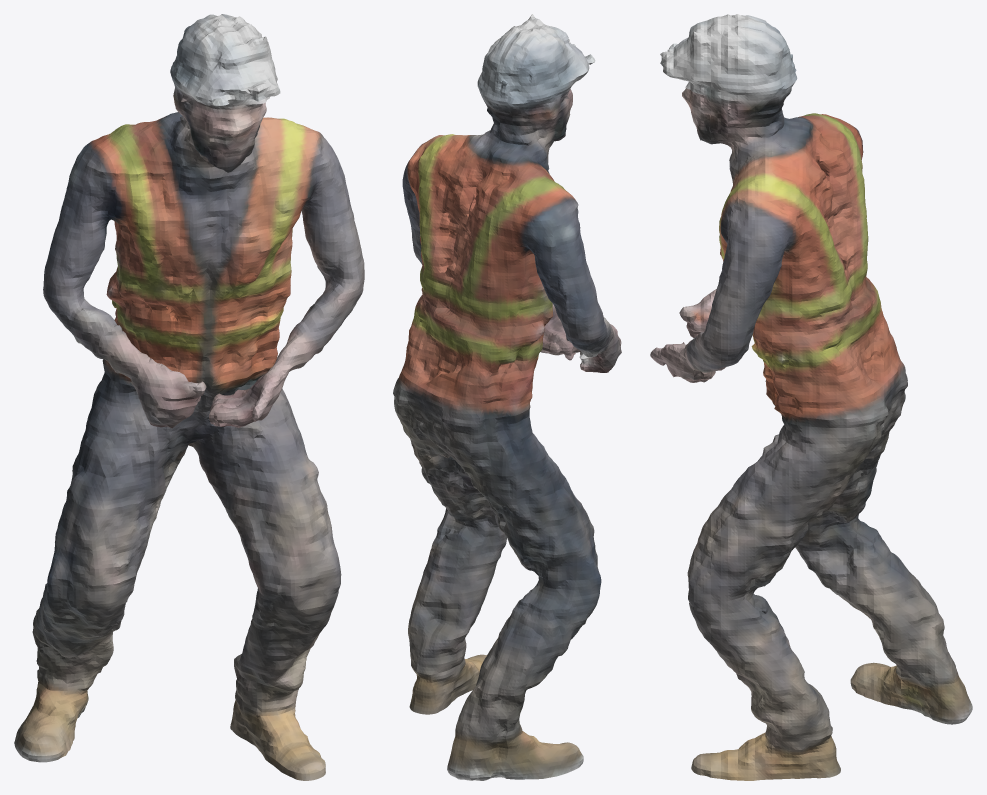
File: standup_14.glb
3 views of the same model, side by side, from view 1: azimuth 30°, elevation 25°; view 2: azimuth 150°, elevation 25°; view 3: azimuth 270°, elevation 25° (orthographic). The views are drawn at different scales.
Visible parts, largest first — view 1: world; view 2: world; view 3: world.
Boxes of the visible parts, left/top/right/bottom form: world: left=14, top=14, right=364, bottom=780; world: left=393, top=14, right=621, bottom=780; world: left=650, top=14, right=972, bottom=780.
Size of the model in its own units: 0.6685 by 1.84 by 0.745.
